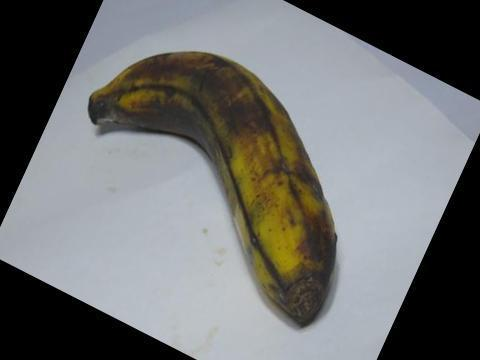overripe: (78, 45, 350, 327)
